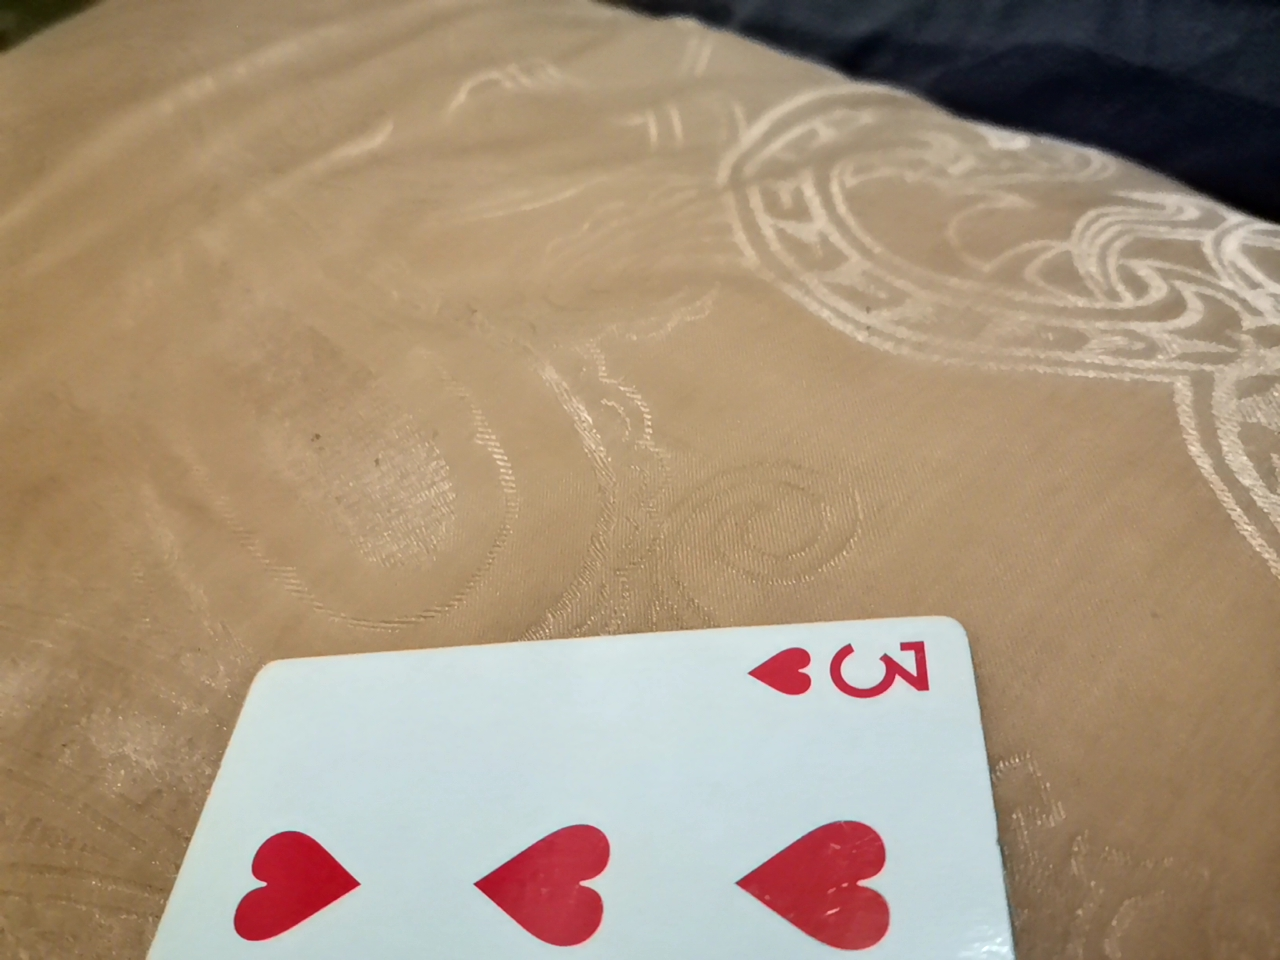hx 3: (113, 614, 990, 960)
